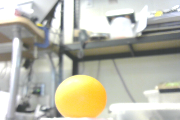PingPongBall: (55, 75, 107, 118)
